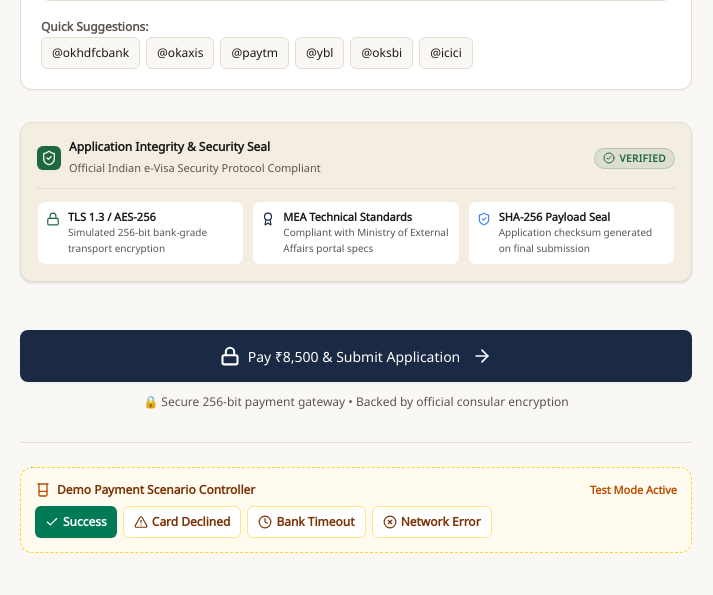
Scenario: ReviewScreen › shows error summary if declaration checkbox is not checked on submit
The image size is (713, 595).
(page scrolled)
Click the button "Pay ₹8,500 & Submit Application" at {"x": 356, "y": 356}, box [20, 330, 692, 382]
(page scrolled)
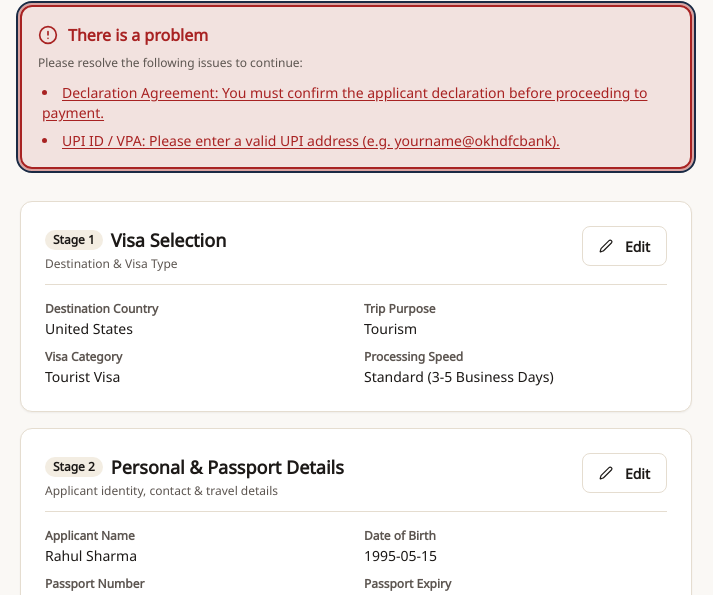
Check: the message is shown, box [20, 5, 692, 169]
Check: the link "you must confirm the applicant declaration before proceeding" is shown, box [42, 83, 648, 122]
